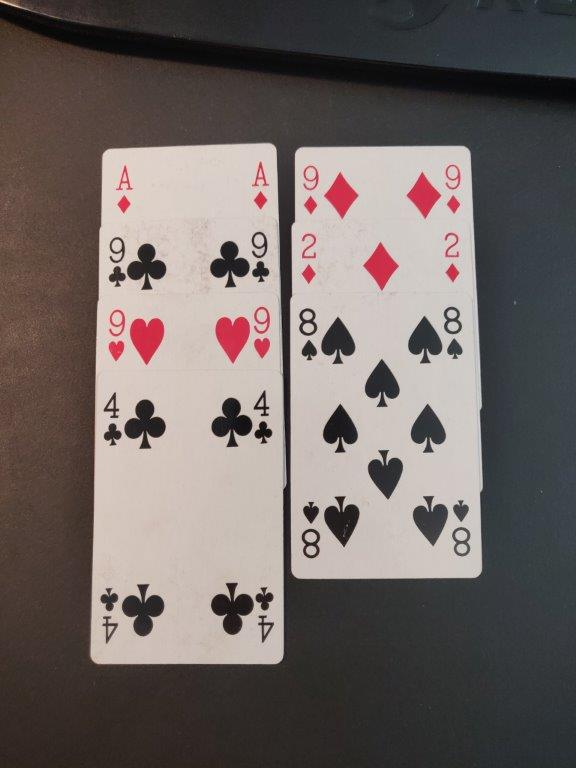2D: (295, 228, 326, 288), (441, 229, 465, 290)
4C: (99, 387, 124, 453), (252, 387, 276, 449)
8S: (440, 301, 468, 367), (295, 304, 322, 368)
9C: (103, 235, 129, 292), (247, 230, 272, 284)
9D: (299, 160, 323, 220), (444, 160, 466, 217)
9H: (102, 307, 130, 367), (249, 302, 276, 362)
AD: (108, 164, 138, 218), (245, 154, 271, 213)
